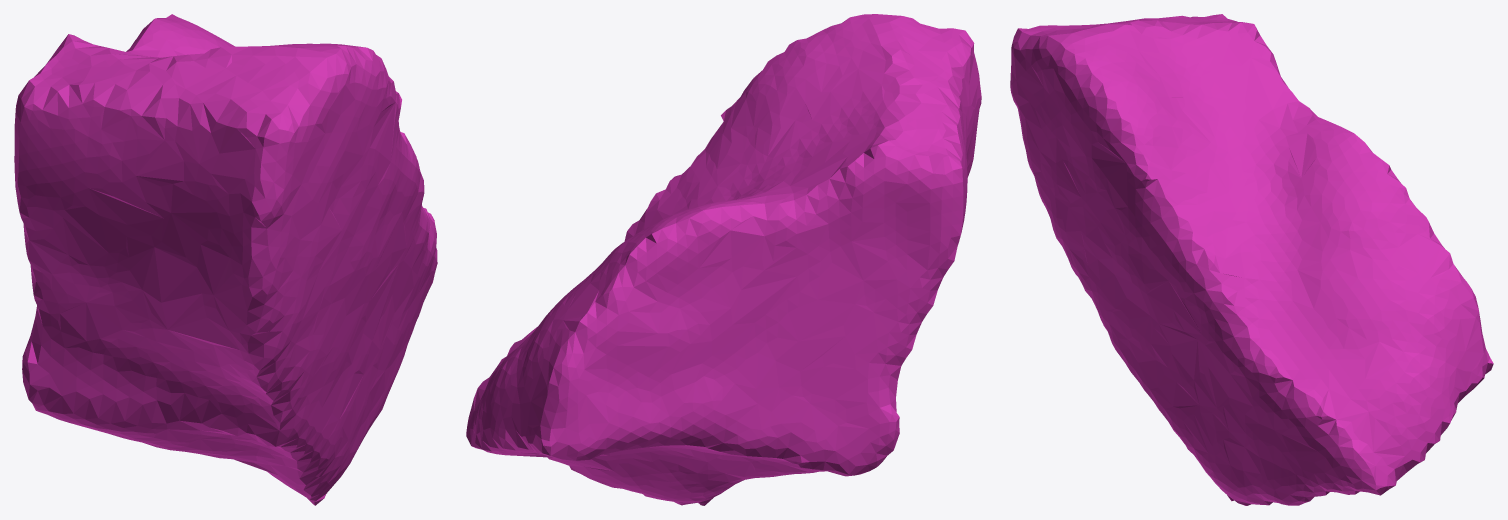
File: Model_51_RH__Area_19_of_cortex__dorsointermediate_part_(A19DI).obj
3 views of the same model, side by side, from view 1: azimuth 30°, elevation 25°; view 2: azimuth 150°, elevation 25°; view 3: azimuth 270°, elevation 25° (orthographic). The views are drawn at different scales.
Bounding box in the file's own units: 3.06 × 3.19 × 3.31.
